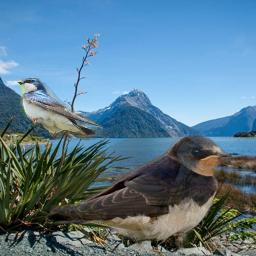Swallow: (45, 132, 229, 250), (17, 78, 103, 142)
